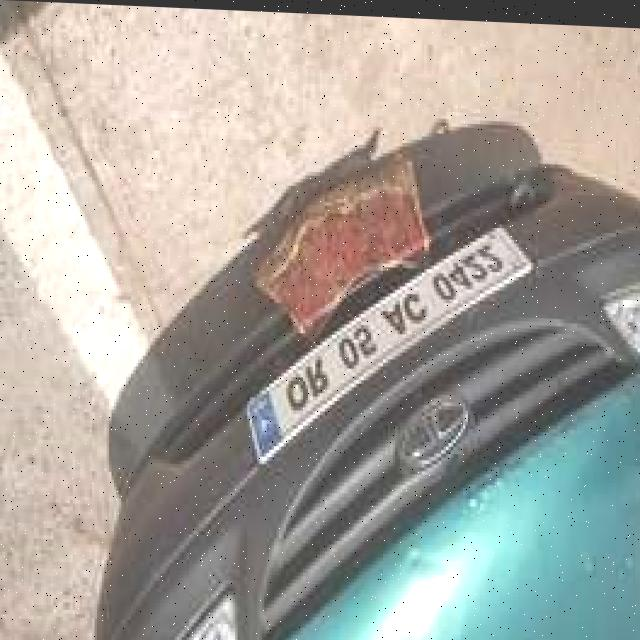plate: (241, 202, 534, 477)
